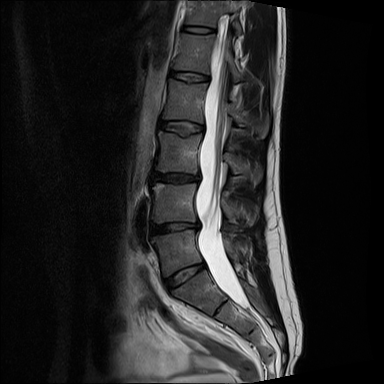Lumbar Disc Bulge (LDB): (143, 217, 209, 242), (147, 167, 209, 189)
Normal IVD: (158, 257, 211, 296), (155, 117, 207, 137), (164, 68, 215, 86), (178, 21, 220, 38)
Spinal Stenosis (SS): (186, 165, 207, 189), (190, 217, 208, 237)
